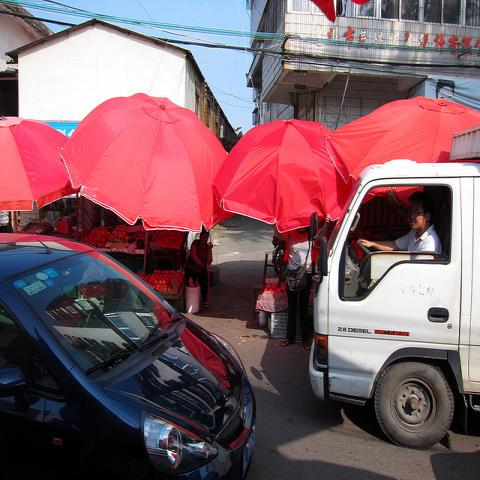car: (0, 233, 260, 473)
motorcycle: (270, 235, 288, 274)
truck: (308, 129, 480, 446)
